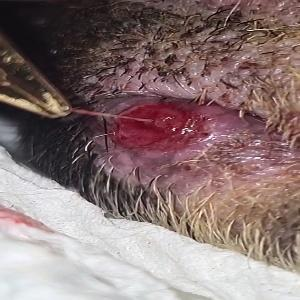skin_lesions: (108, 97, 215, 153)
